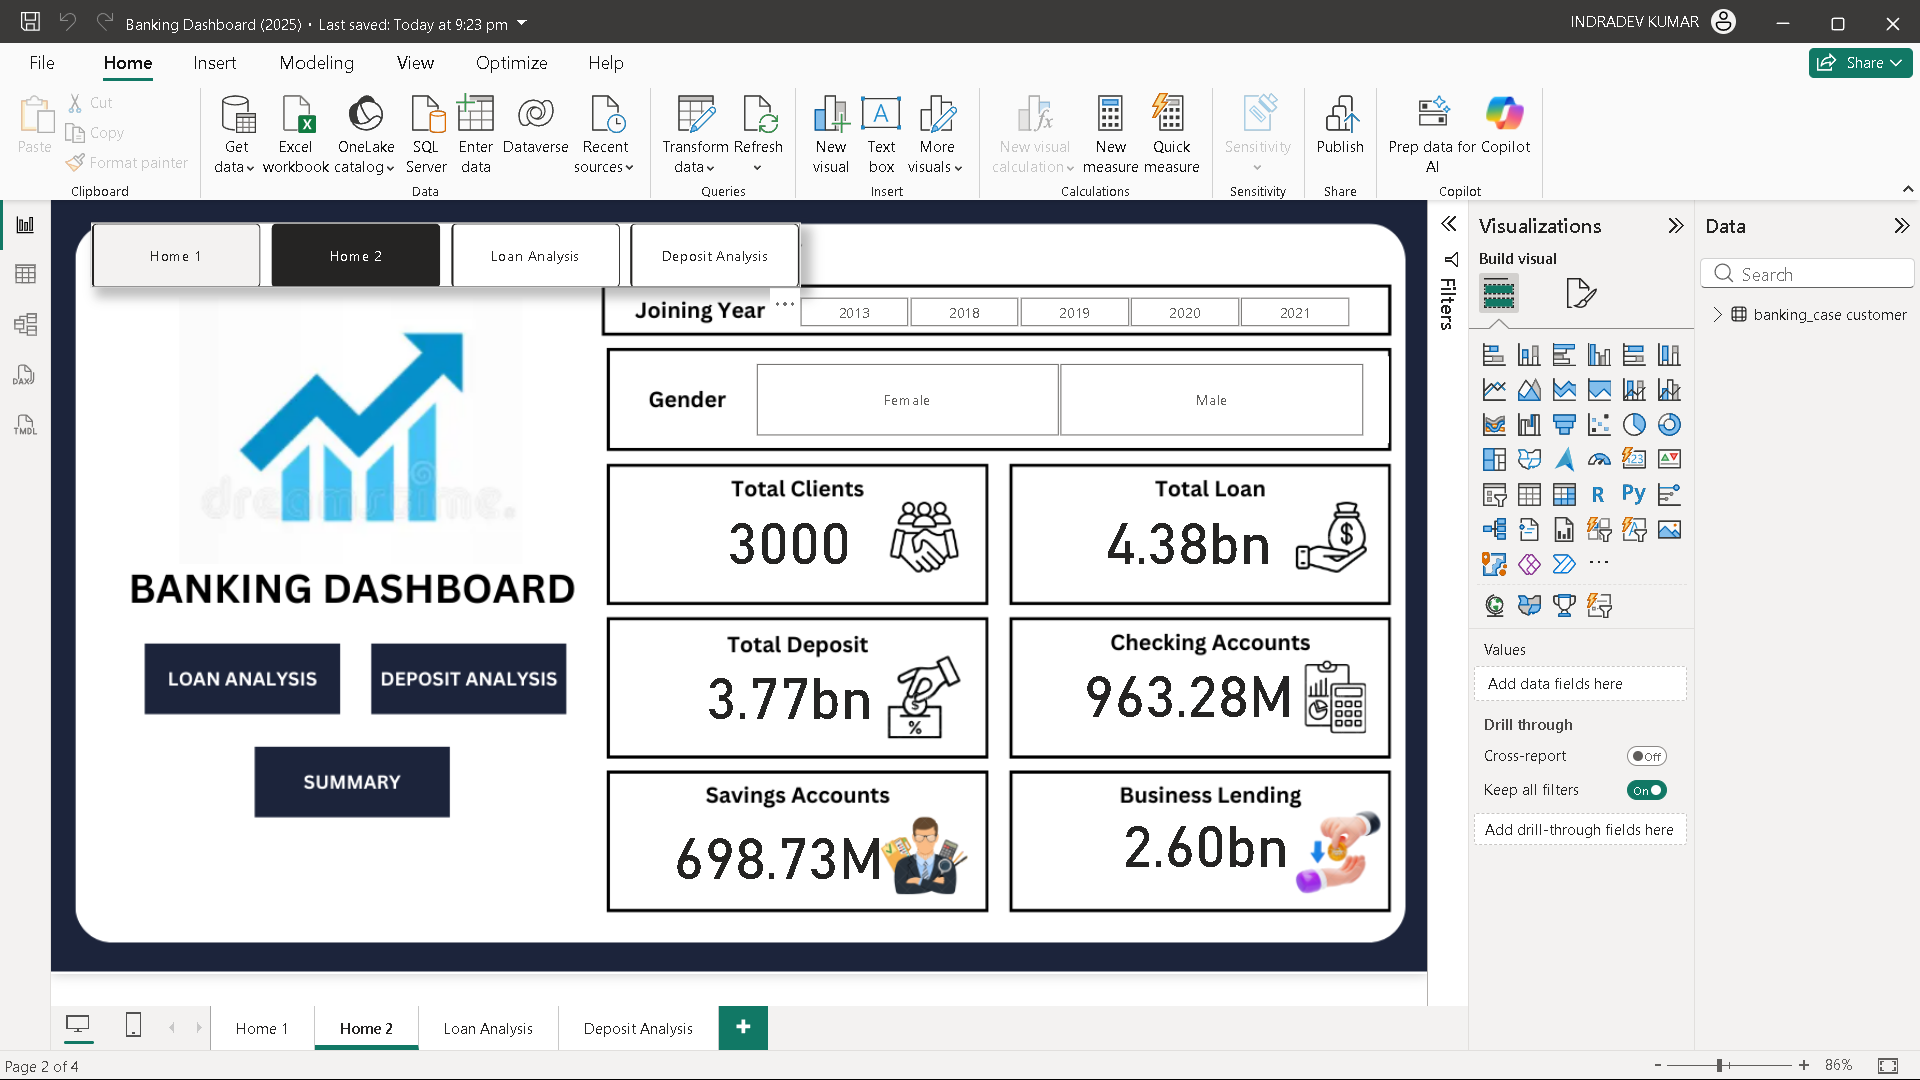

This screenshot's page, from the dashboard's own definition file:
{"tool":"powerbi","page":{"name":"Home 2","canvas":[1280,720],"ordinal":1},"visuals":[{"type":"card","fields":{"Values":["CountNonNull(banking_case customer.Name)"]},"box":[580.5,275.2,213.6,74.7],"z":0},{"type":"slicer","fields":{"Values":["banking_case customer.GenderId"]},"box":[629.8,145.2,614.3,81],"z":1000},{"type":"card","fields":{"Values":["banking_case customer.Total Loan"]},"box":[951.4,275.2,214.9,74.7],"z":2000},{"type":"card","fields":{"Values":["banking_case customer.Total Deposit"]},"box":[581.8,419.3,212.3,74.7],"z":3000},{"type":"slicer","fields":{"Values":["banking_case customer.Year of Joining"]},"box":[671.4,83.3,560.7,34.5],"z":4000},{"type":"card","fields":{"Values":["Sum(banking_case customer.Saving Accounts)"]},"box":[570,568.8,213.6,74.7],"z":5000},{"type":"card","fields":{"Values":["Sum(banking_case customer.Business Lending)"]},"box":[967.5,557.5,213.6,74.7],"z":6000},{"type":"card","fields":{"Values":["Sum(banking_case customer.Checking Accounts)"]},"box":[951.4,418,213.6,76],"z":7000},{"type":"actionButton","box":[191.5,514.3,175.7,55.4],"z":8000},{"type":"actionButton","box":[348.2,31.7,221.6,39.6],"z":9000},{"type":"actionButton","box":[91.8,417.8,172.5,58.6],"z":10000},{"type":"actionButton","box":[297.5,419.4,185.2,57],"z":11000},{"type":"pageNavigator","box":[37.5,21.2,660,60],"z":11001}]}

Visuals, with their boxes on the page's 1280x720 design canvas (x1, y1, x2, y2). These are canvas units, not pixel positions in the 1920x1080 screenshot, which may show the page scaled, cropped or inside an application window:
card - CountNonNull(banking_case customer.Name): crop(580, 275, 794, 350)
slicer - banking_case customer.GenderId: crop(630, 145, 1244, 226)
card - banking_case customer.Total Loan: crop(951, 275, 1166, 350)
card - banking_case customer.Total Deposit: crop(582, 419, 794, 494)
slicer - banking_case customer.Year of Joining: crop(671, 83, 1232, 118)
card - Sum(banking_case customer.Saving Accounts): crop(570, 569, 784, 644)
card - Sum(banking_case customer.Business Lending): crop(968, 558, 1181, 632)
card - Sum(banking_case customer.Checking Accounts): crop(951, 418, 1165, 494)
actionButton: crop(192, 514, 367, 570)
actionButton: crop(348, 32, 570, 71)
actionButton: crop(92, 418, 264, 476)
actionButton: crop(298, 419, 483, 476)
pageNavigator: crop(38, 21, 698, 81)
